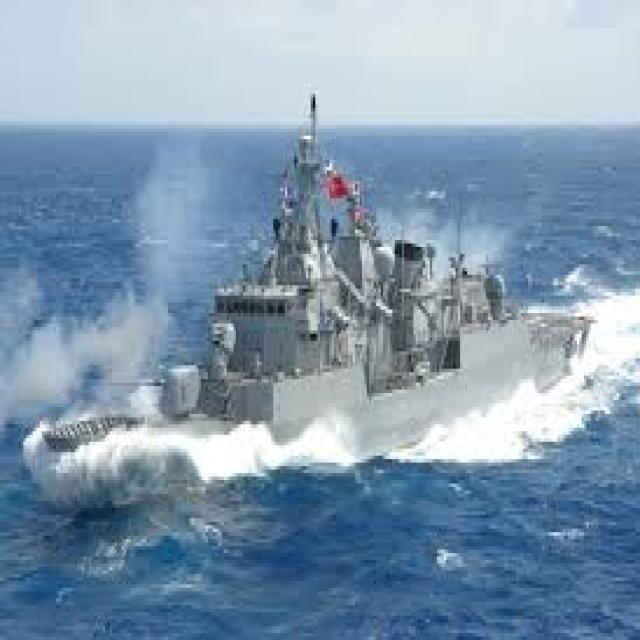navalvessels: (41, 88, 601, 532)
